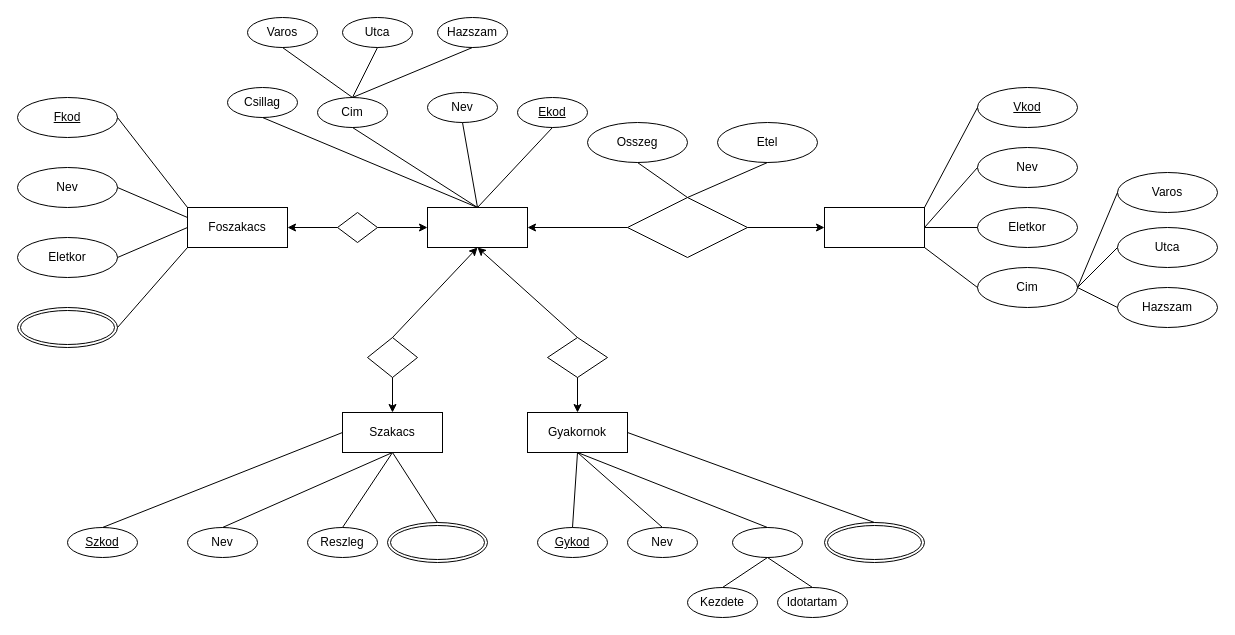
The diagram is 1235 pixels wide and 635 high, and some of its shapes have lost their labels. The shapes that lost their labels are listed below. From the top down, each one's centre as x and y in pixels, then its label:
At point 357,227: "E_F".
At point 477,227: "Etterem".
At point 687,227: "R endelés".
At point 874,227: "Vendeg".
At point 67,327: "Vegzettség".
At point 392,357: "E-Sz".
At point 577,357: "E-Gy".
At point 437,542: "Vegzettseg".
At point 767,542: "Gyakorlat".
At point 874,542: "Muszak".
